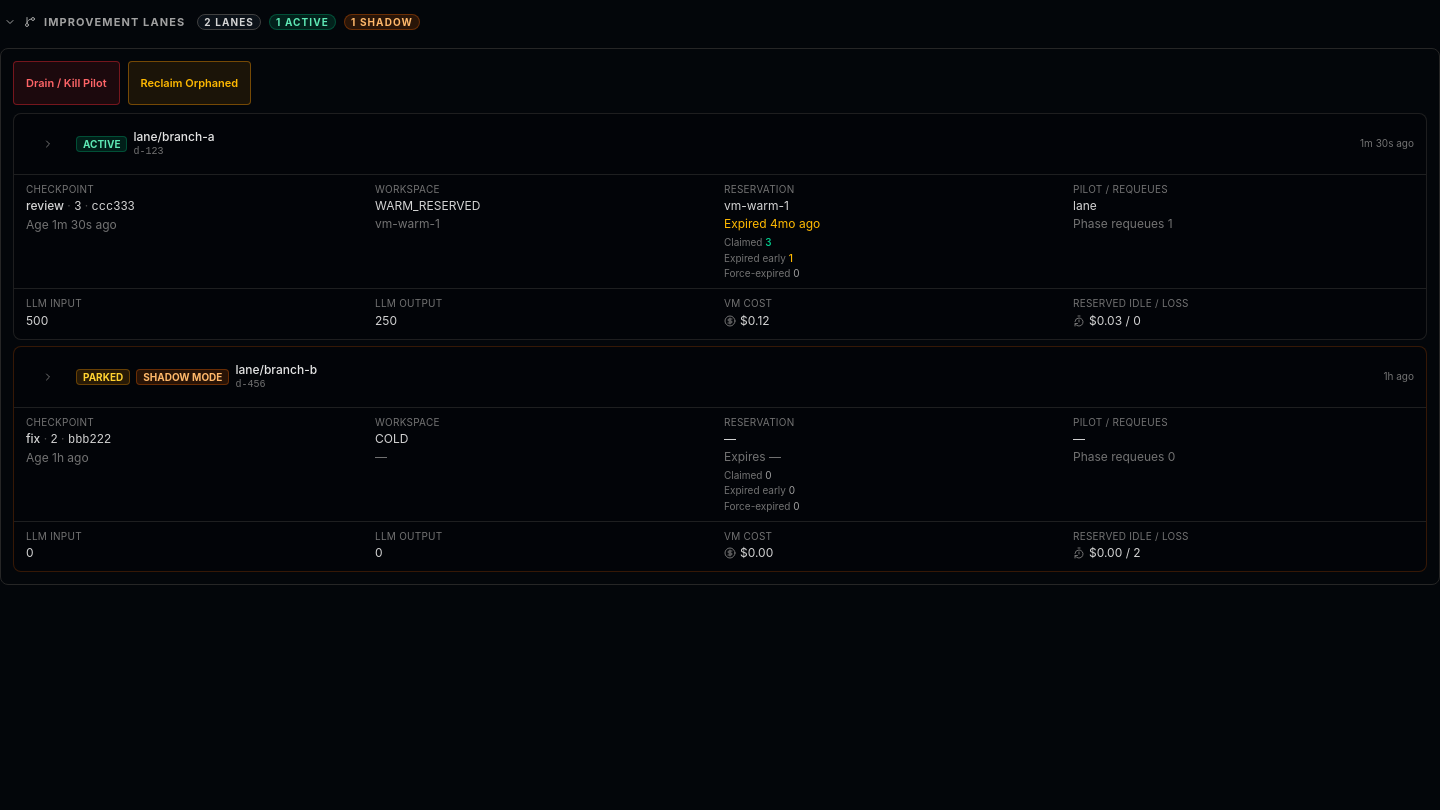
Test: ImprovementLanesPanel › dismisses ConfirmDialog on cancel
The width and height of the screenshot is (1440, 810).
What coordinates should you click on to do the following:
click the button with test id "drain-lane-pilot-button"
I would click on:
 (66, 83)
Its box is [13,61,120,105].
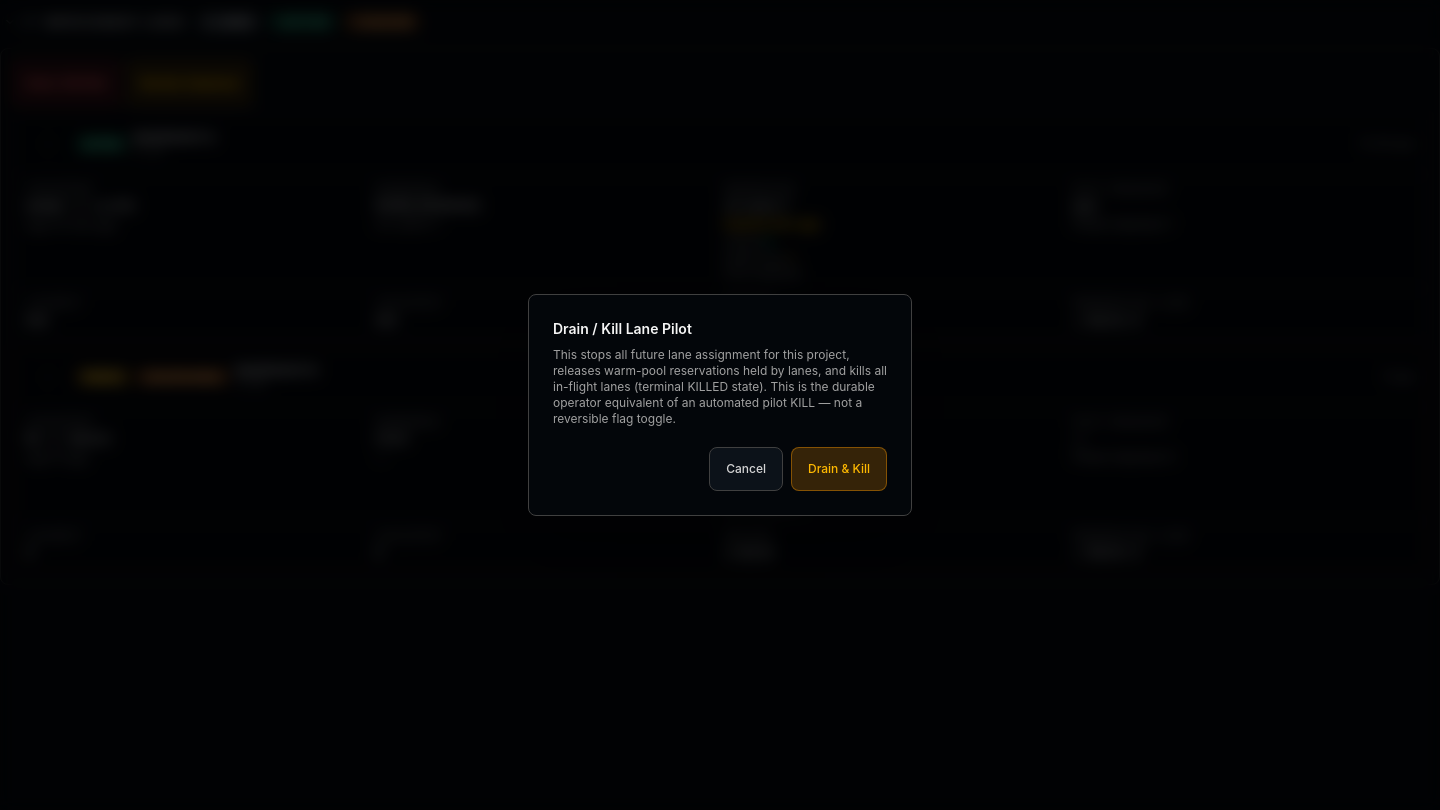
expect the heading "Drain / Kill Lane Pilot" is shown: met, box [553,320,692,337]
What coordinates should you click on to do the following:
click the button "Cancel"
I would click on:
 (746, 469)
Its box is [709,447,783,491].
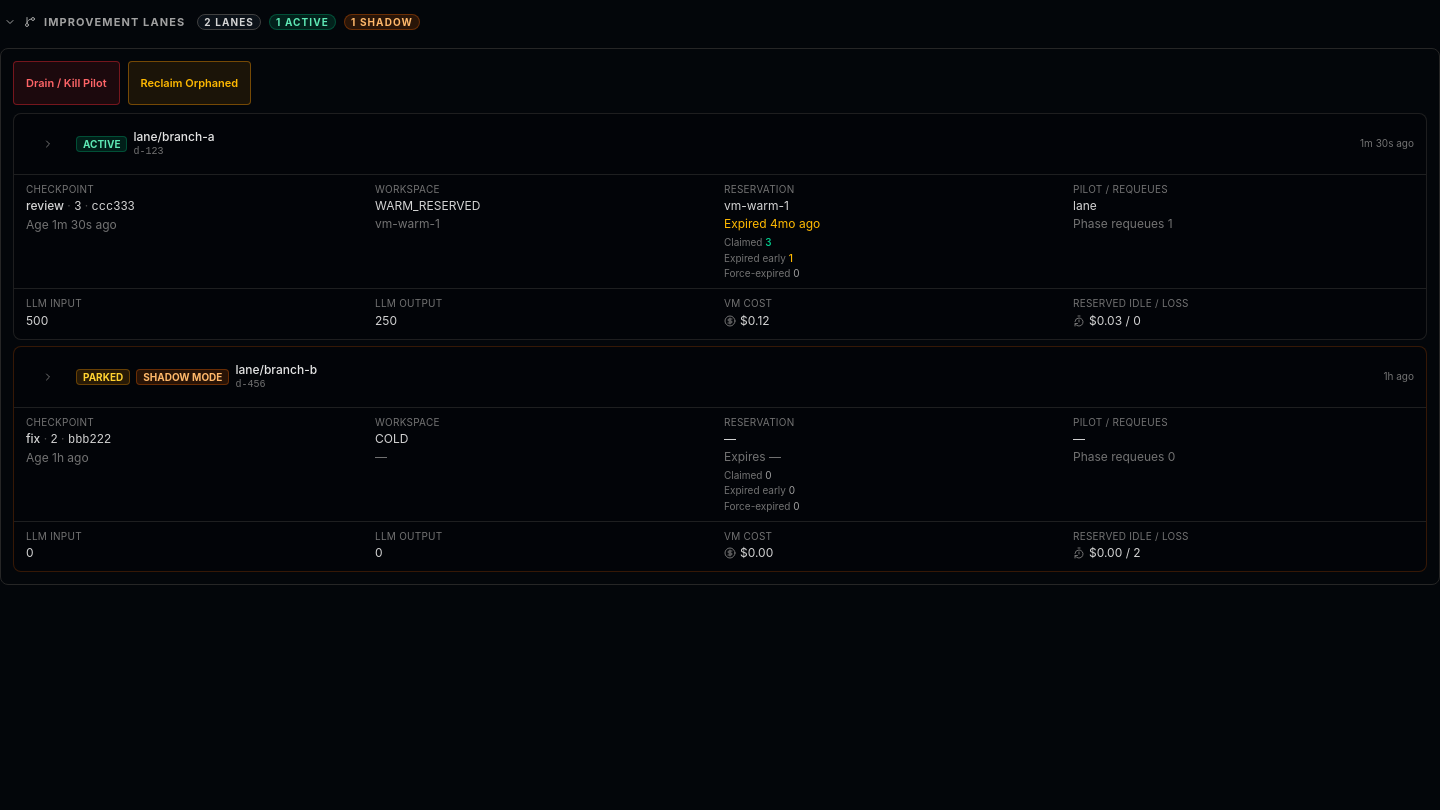
expect the heading "Drain / Kill Lane Pilot" is gone: met
